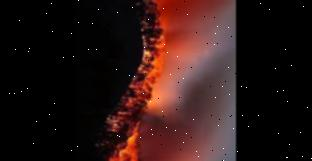fire: (126, 36, 168, 106), (110, 125, 146, 161)
